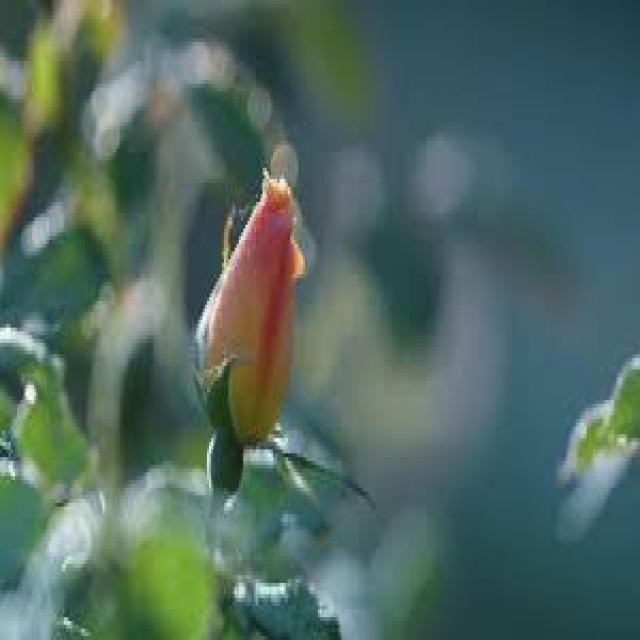Bloomed: (192, 164, 307, 449)
